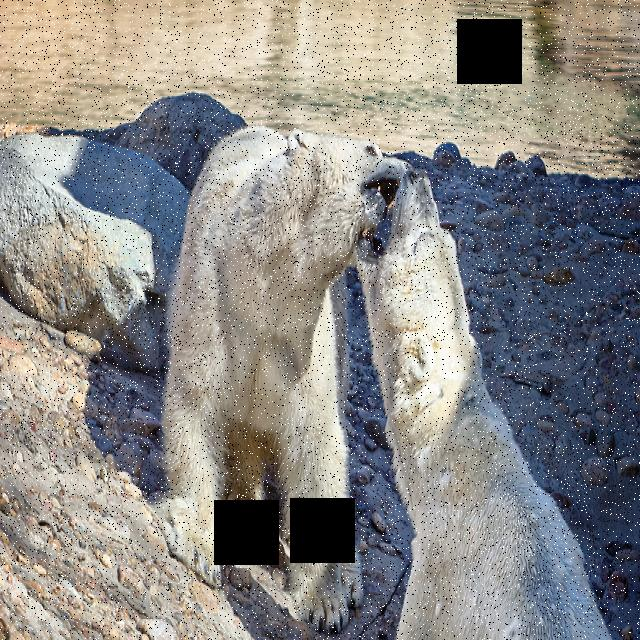Bear: (163, 102, 411, 634), (349, 147, 614, 640)
